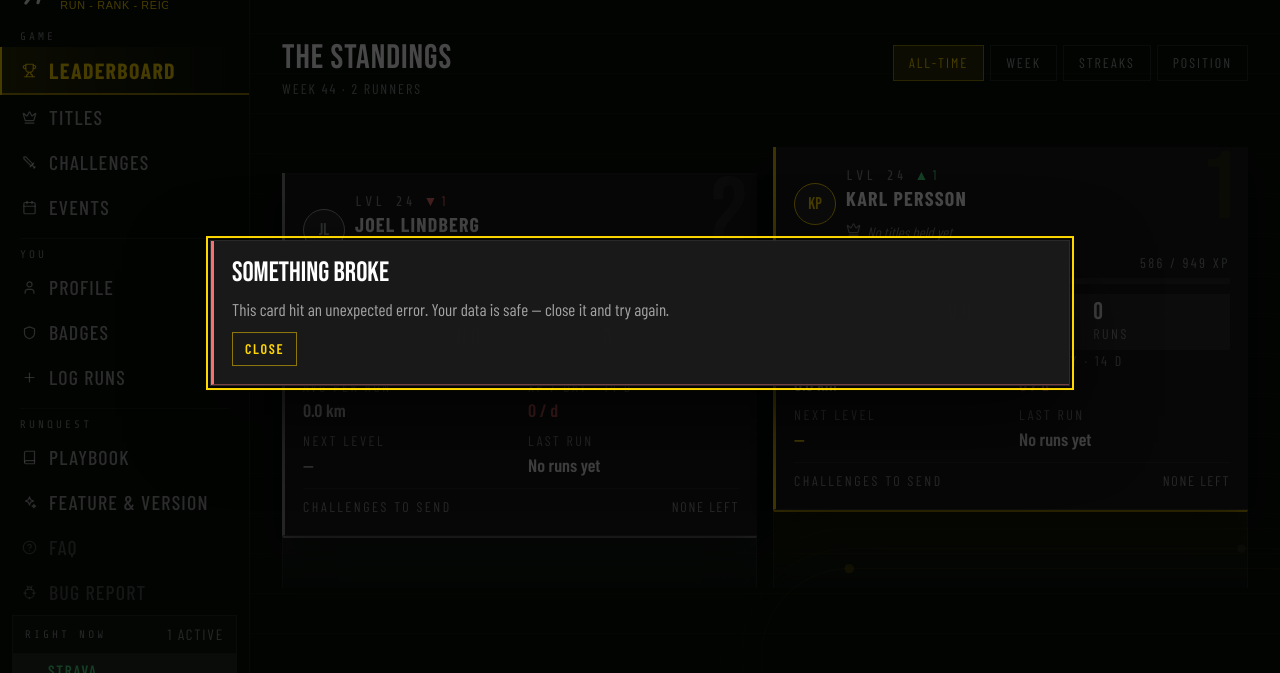
Test: felgräns runt Runner-overlayn (desktop) › ett fel i overlayn ger felkortet, bakgrundssidan och skalet står kvar, och Close tar en ur felläget
Expected: the heading "Something broke" is shown, [232,259,389,287]
Expected: the button "Karl Persson" is shown, [846,187,967,209]
Click the button "Close": (265,349) [232,332,297,366]
(page scrolled)
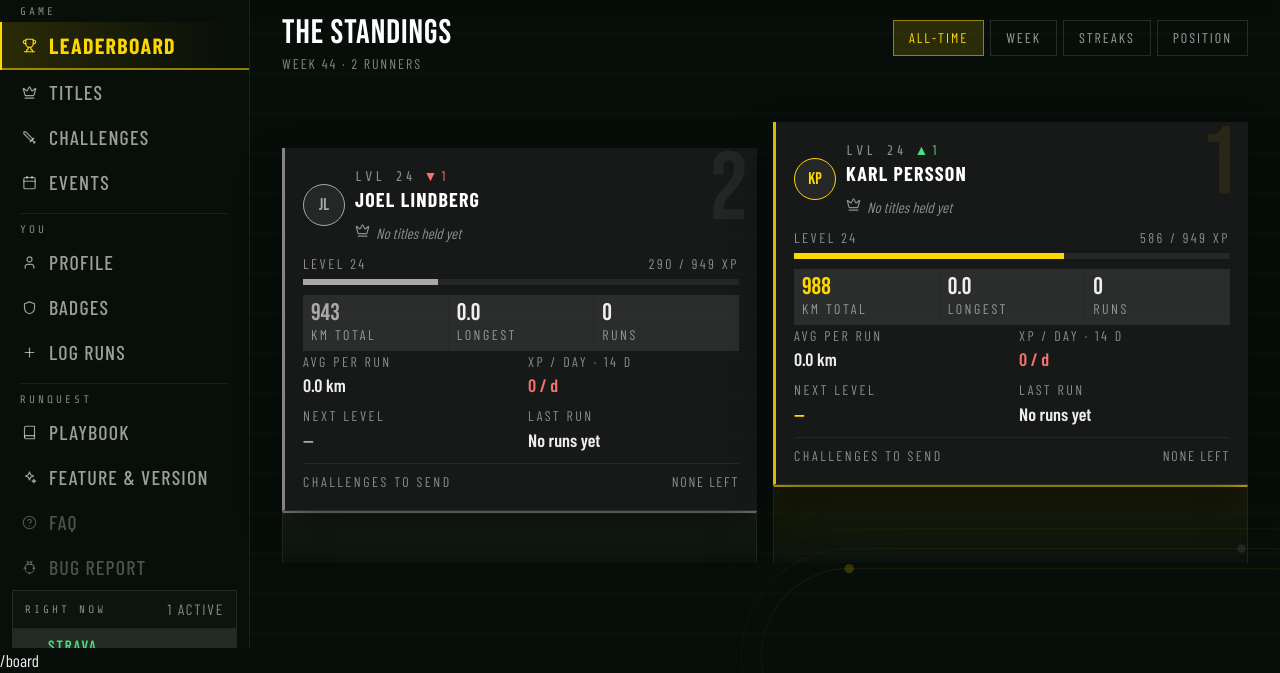
Now the message "Something broke This card hit an unexpected error. Your data is safe — close it" is gone
Now the text with test id "location" reads "/board", box [0,650,39,670]
